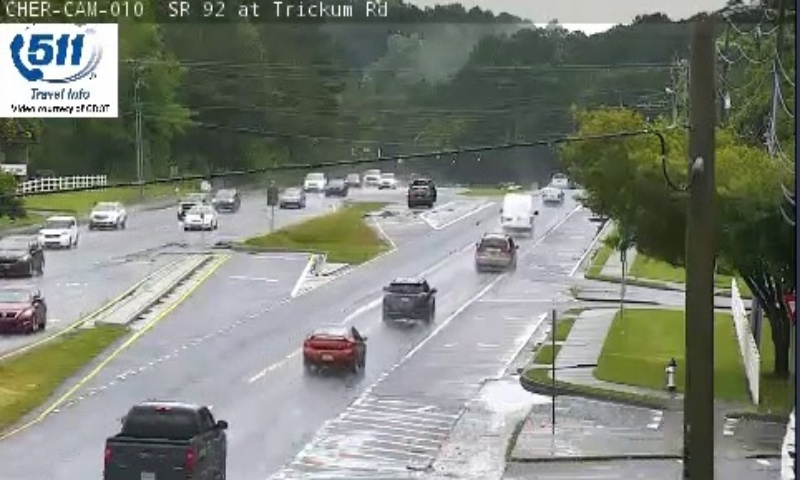car: (102, 404, 225, 480), (305, 326, 366, 370), (382, 277, 434, 320), (475, 235, 517, 269)
van: (501, 193, 534, 232)
